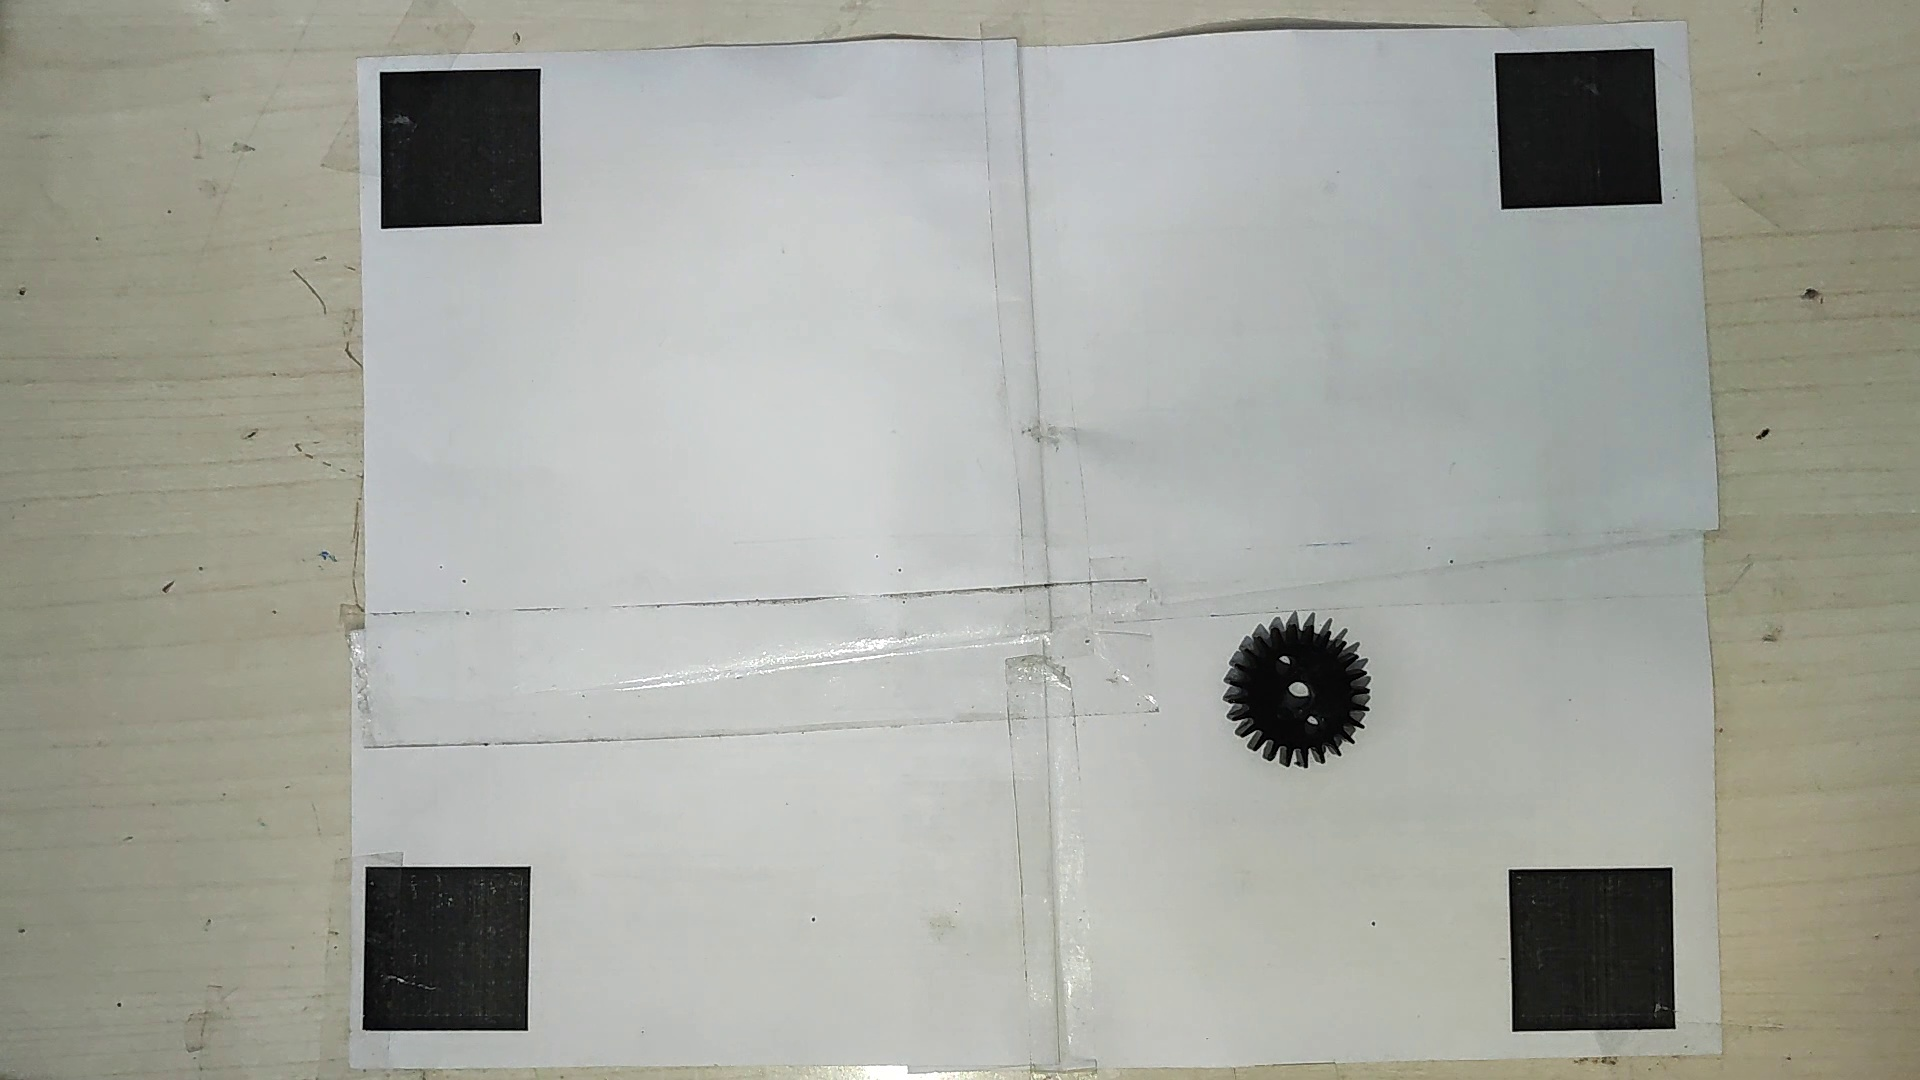Gear: (1215, 613, 1370, 773)
